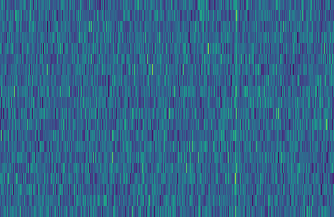signal: (232, 0, 241, 217)
